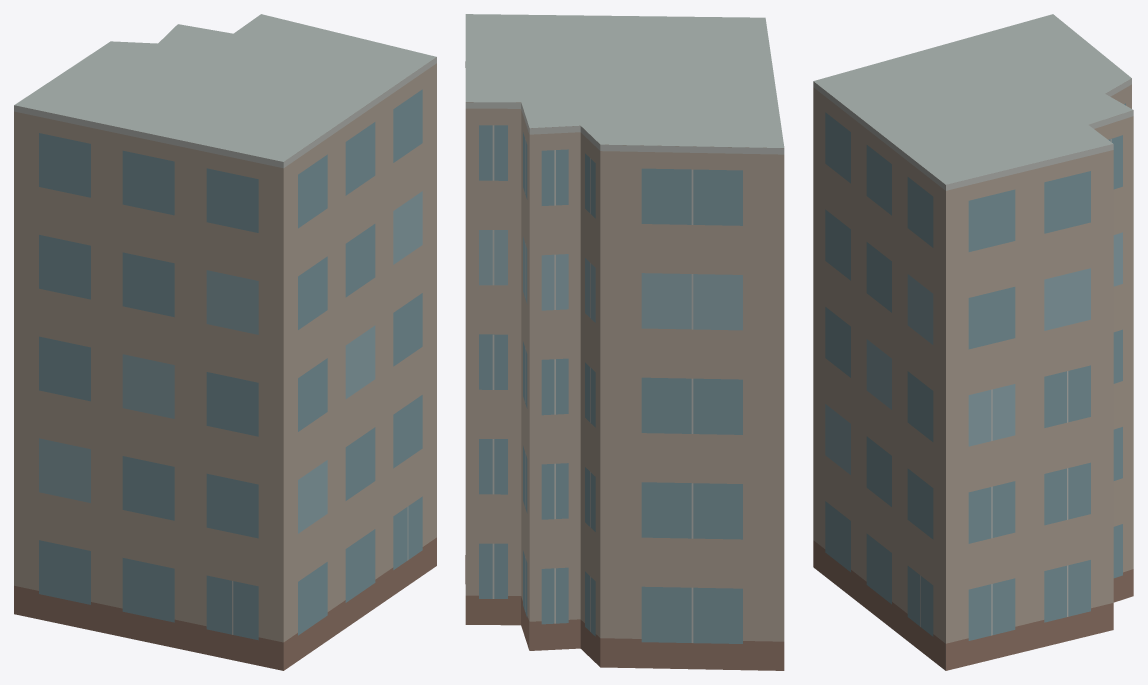
Rendered from survey-upis-32967758.glb.
3 views of the same model, side by side, from view 1: azimuth 30°, elevation 25°; view 2: azimuth 150°, elevation 25°; view 3: azimuth 270°, elevation 25° (orthographic). The views are drawn at different scales.
Parts seen in each view (by area): view 1: survey-upis-32967758.tmp; view 2: survey-upis-32967758.tmp; view 3: survey-upis-32967758.tmp.
Part boxes in pixels (x1=…): survey-upis-32967758.tmp: x1=14, y1=14, x2=436, y2=670; survey-upis-32967758.tmp: x1=465, y1=14, x2=784, y2=670; survey-upis-32967758.tmp: x1=813, y1=14, x2=1133, y2=670.
Size of the model in its own units: 14.82 by 19.65 by 11.75.
